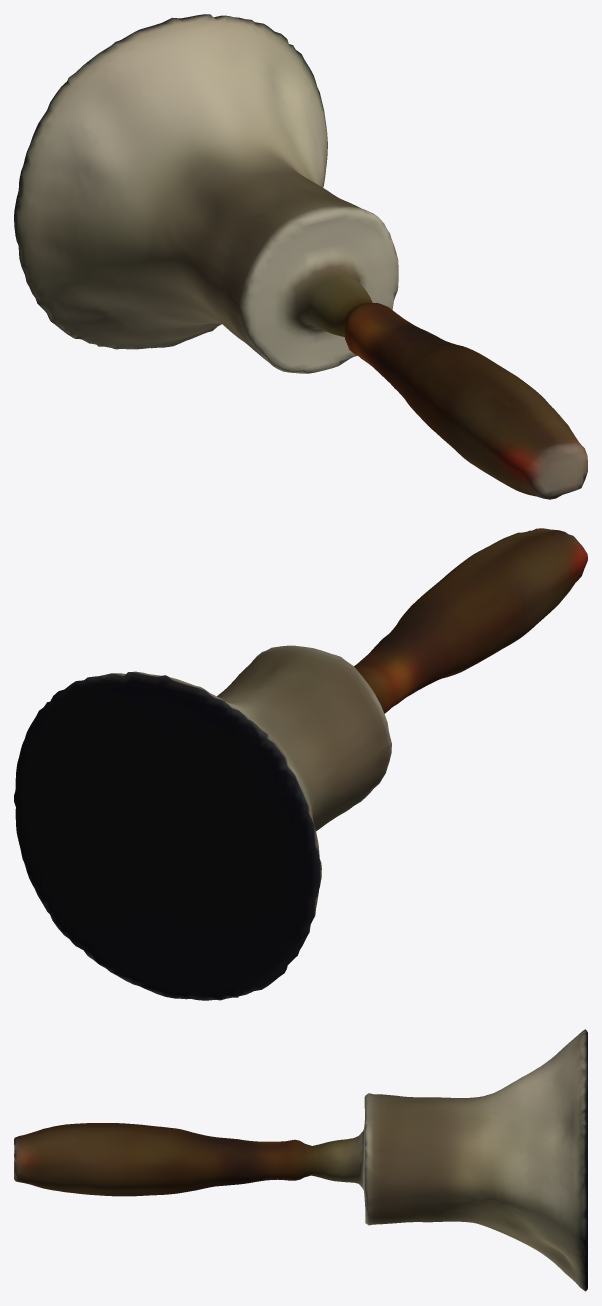
The model's file is bell.glb.
3 renders of one model, top to bottom at view 1: azimuth 30°, elevation 25°; view 2: azimuth 150°, elevation 25°; view 3: azimuth 270°, elevation 25°, orthographic. The views are drawn at different scales.
Bounding box in the file's own units: 0.454 × 0.4553 × 0.9999.
